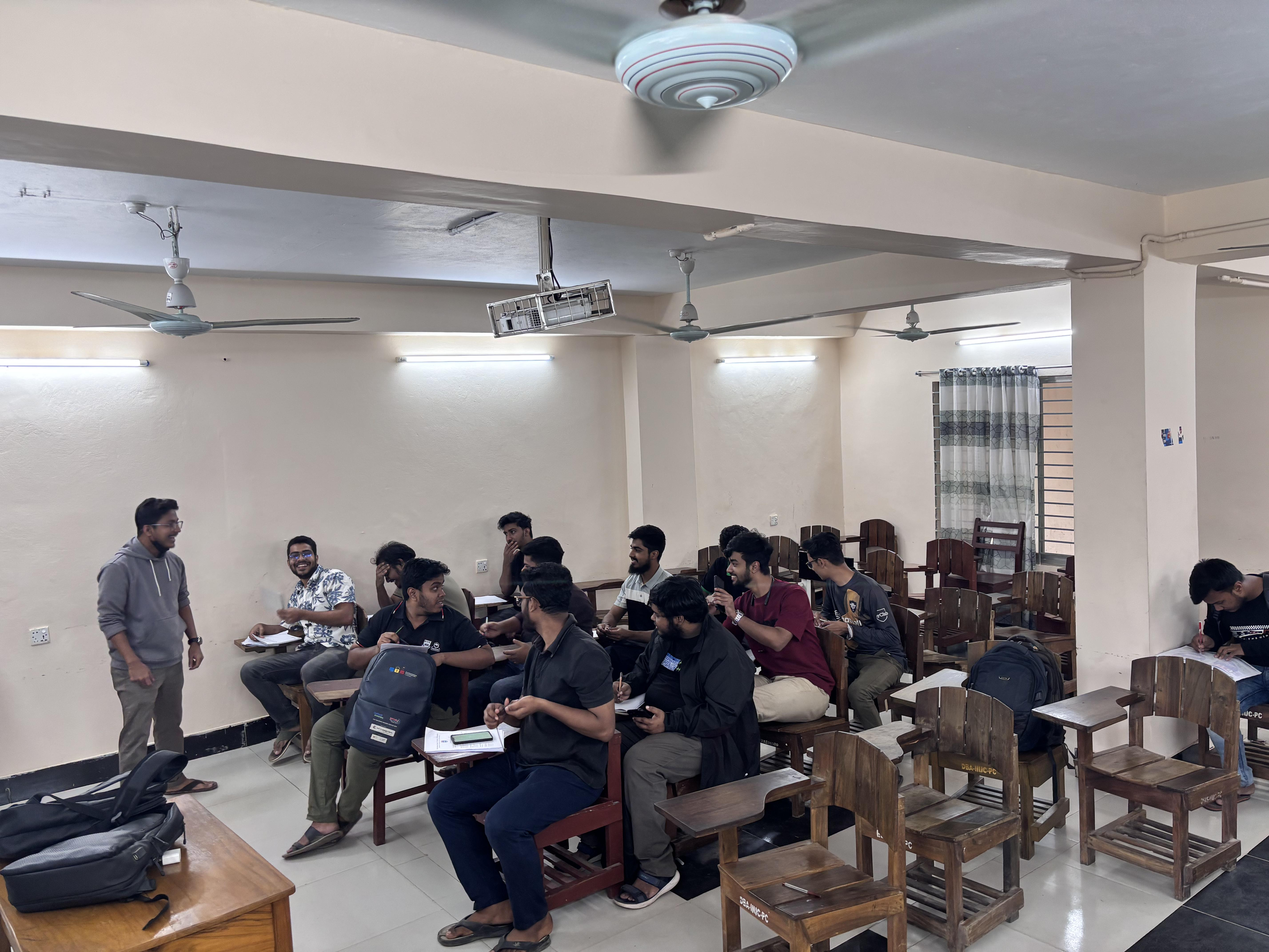invigilator: (99, 489, 202, 782)
no_cheating: (1169, 541, 1269, 728), (605, 522, 681, 643), (485, 508, 534, 578)
side_talking: (479, 567, 607, 781), (248, 531, 359, 681), (365, 554, 478, 677), (789, 521, 881, 643), (712, 536, 798, 648), (368, 534, 430, 647)
using_phone: (618, 576, 729, 759)
